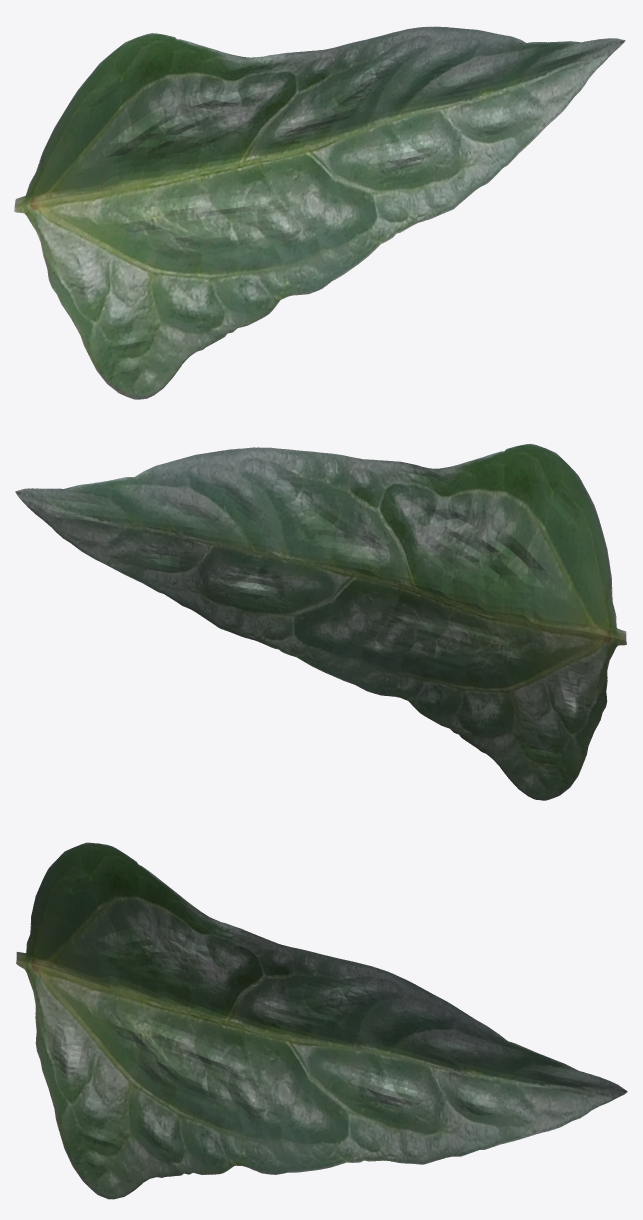
File: CowpeaLeaf_tip.obj
3 views of the same model, one above another, from view 1: azimuth 30°, elevation 25°; view 2: azimuth 150°, elevation 25°; view 3: azimuth 330°, elevation 25° (orthographic). The views are drawn at different scales.
Visible parts, largest first — view 1: leaf, veins; view 2: leaf, veins; view 3: leaf, veins.
Boxes of the visible parts, bbox=[...] form: leaf: bbox=[15, 26, 625, 399]; veins: bbox=[14, 78, 262, 273]; leaf: bbox=[15, 443, 626, 800]; veins: bbox=[397, 495, 626, 691]; leaf: bbox=[16, 842, 627, 1199]; veins: bbox=[16, 891, 245, 1088].
Bounding box in the file's own units: 2.01 × 1.15 × 0.1816.
1 material, 1 textured.
